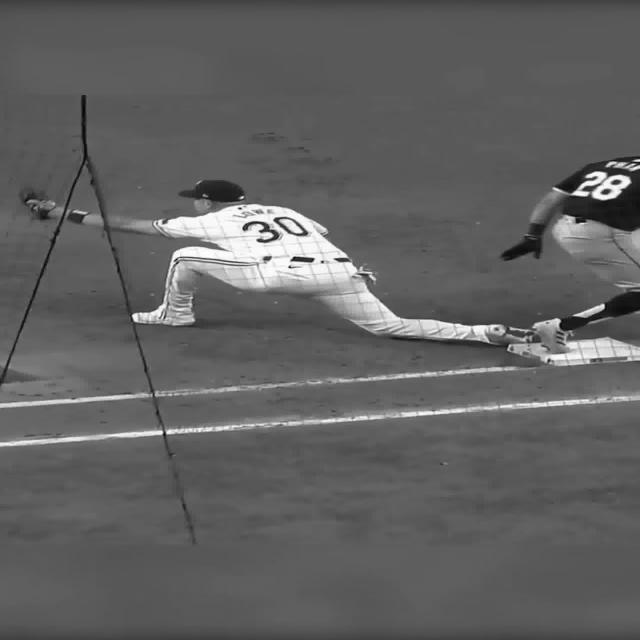base: (507, 338, 640, 366)
baseball_glove: (18, 186, 58, 220)
shoe: (533, 319, 571, 354), (131, 306, 196, 326), (483, 324, 538, 345)
